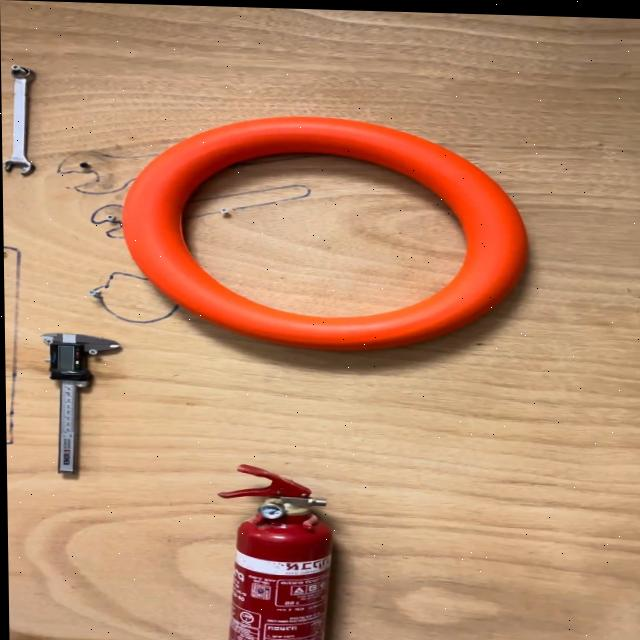note: (117, 108, 532, 356)
